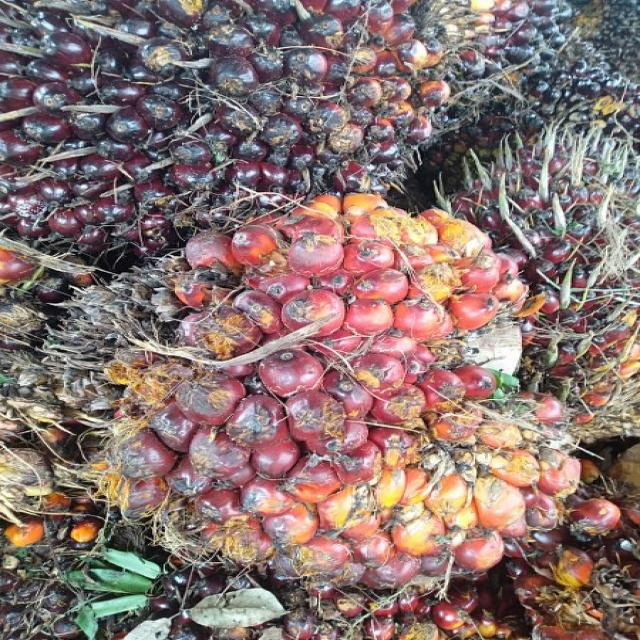fraksi 3: (57, 186, 616, 590)
